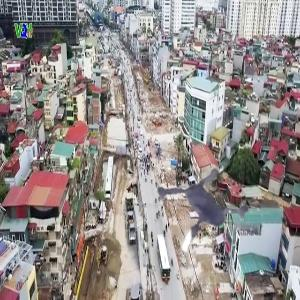drone: (120, 149, 268, 297)
